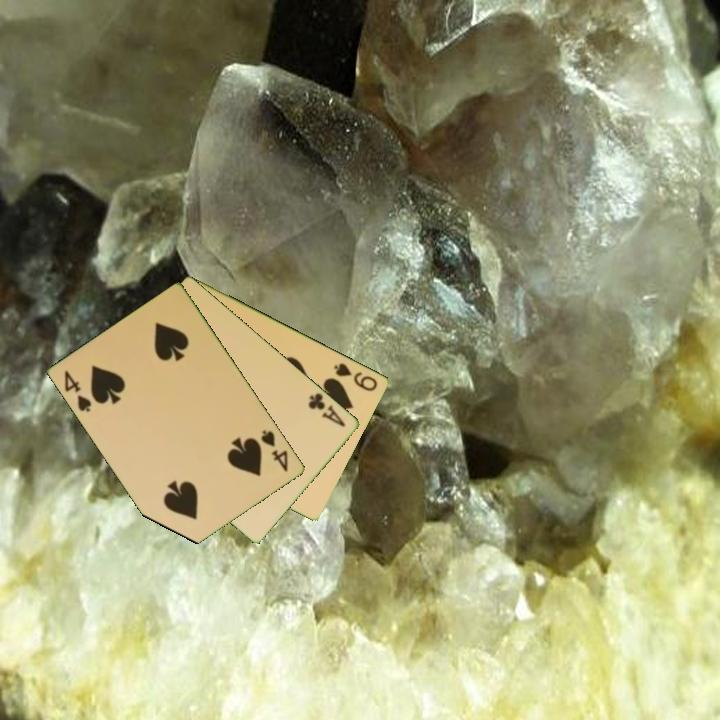4s: (61, 367, 95, 415), (258, 426, 291, 475)
9s: (330, 359, 381, 394)
Ac: (305, 389, 349, 430)
